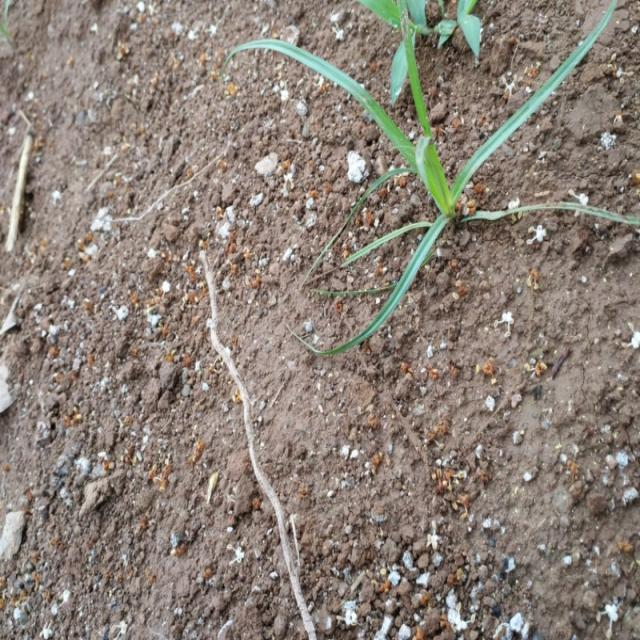sedge: (233, 40, 592, 383)
